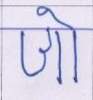e_matra: (37, 7, 76, 28)
